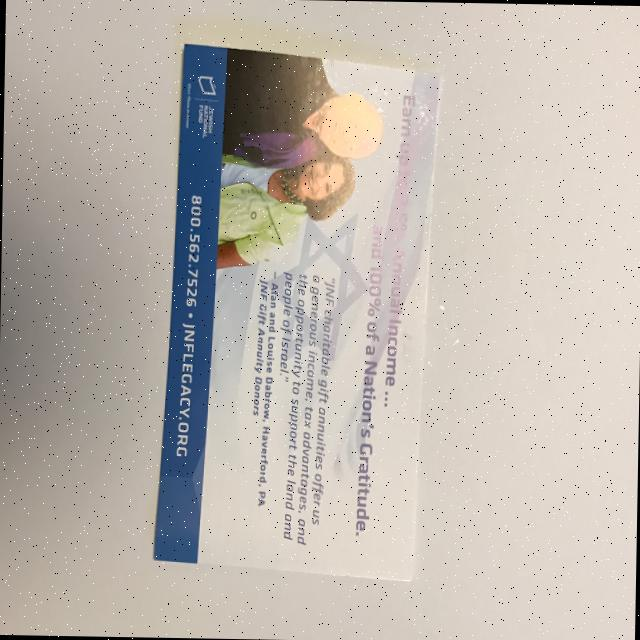paper: (154, 42, 442, 581)
